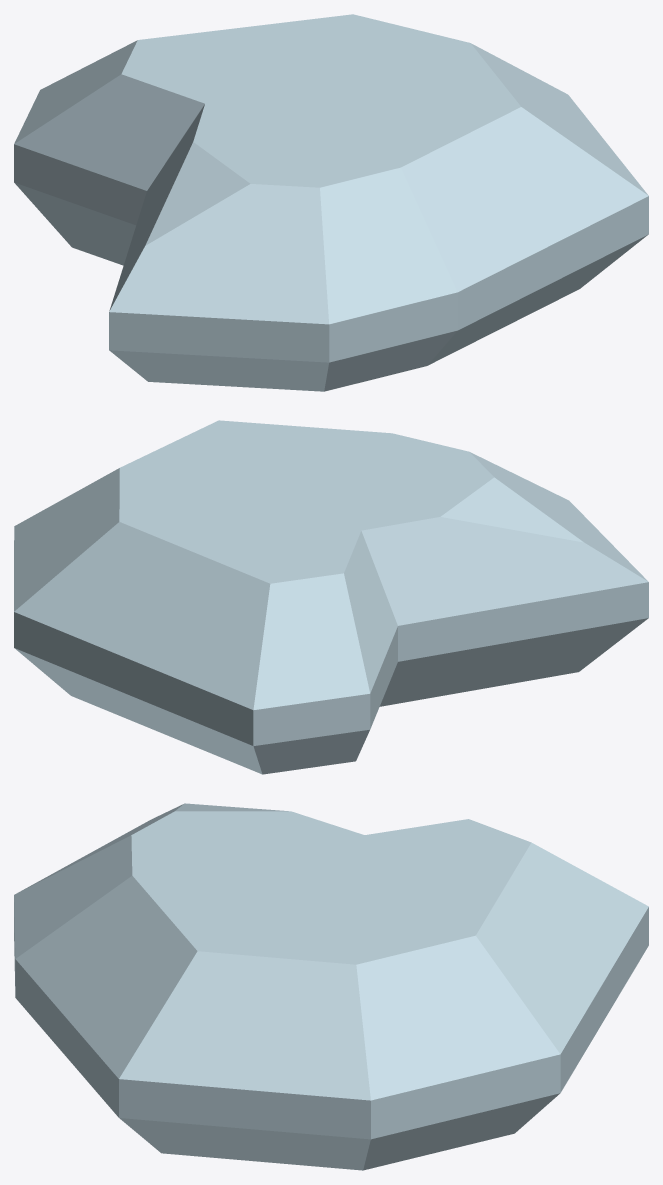
File: rocher-glace-2.glb
3 renders of one model, top to bottom at view 1: azimuth 30°, elevation 25°; view 2: azimuth 150°, elevation 25°; view 3: azimuth 270°, elevation 25°, orthographic. The views are drawn at different scales.
Parts seen in each view (by area): view 1: stone_largeC; view 2: stone_largeC; view 3: stone_largeC.
Boxes of the visible parts, x1,y1,x2,y2 form: stone_largeC: [14, 14, 648, 391]; stone_largeC: [14, 420, 648, 774]; stone_largeC: [14, 803, 648, 1170].
Size of the model in its own units: 3 by 0.905 by 2.86.
